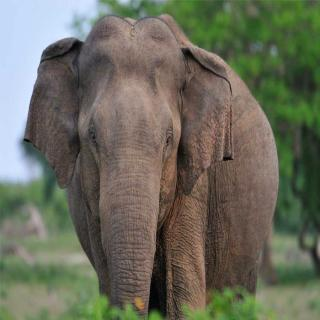Elephant: (23, 11, 282, 320)
